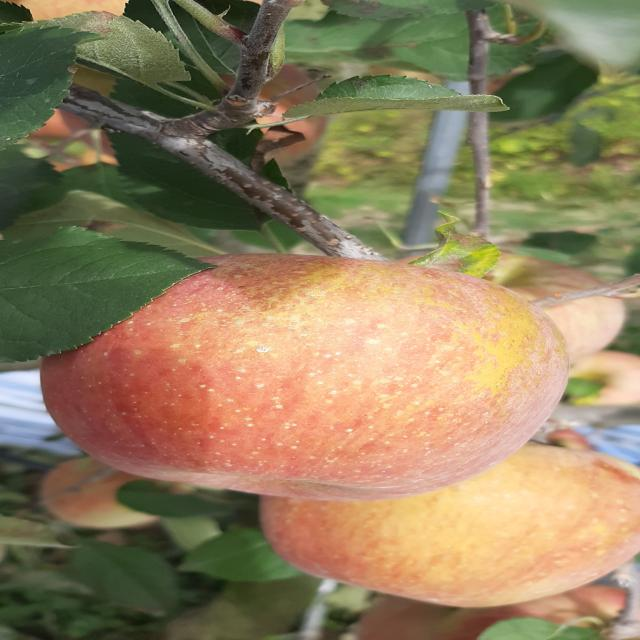fresh: (43, 246, 590, 507)
